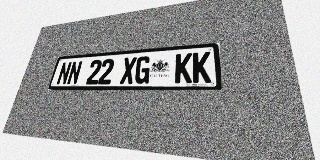2: (86, 59, 103, 85), (98, 58, 115, 84)
G: (134, 56, 151, 84)
K: (193, 51, 211, 83), (175, 53, 192, 83)
N: (66, 61, 83, 85), (56, 62, 72, 85)
X: (120, 57, 137, 84)
